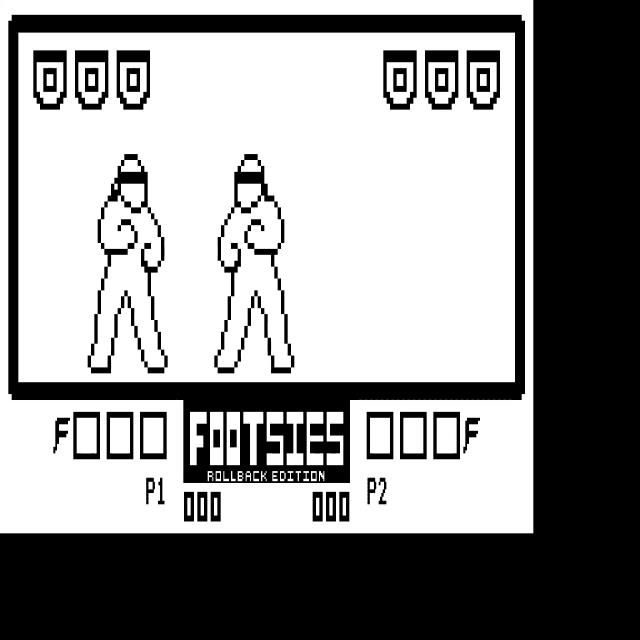Idle: (212, 156, 296, 375), (86, 156, 168, 375)
